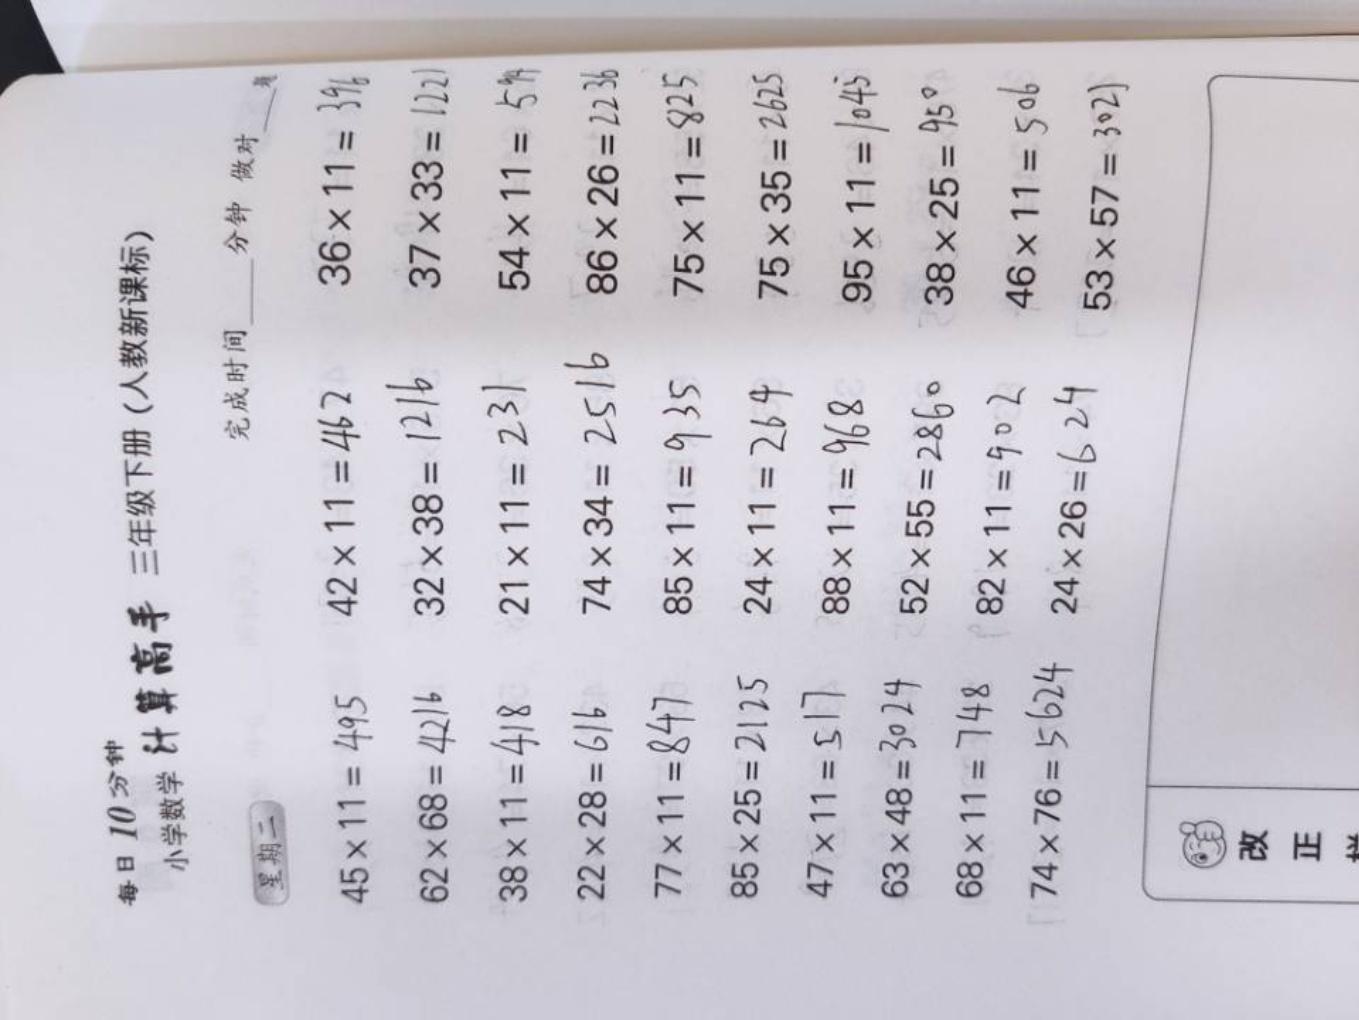equation: (1041, 356, 1133, 629), (556, 325, 636, 629), (469, 359, 550, 636), (882, 62, 967, 327), (379, 56, 463, 318), (857, 655, 933, 924), (646, 61, 723, 325), (822, 49, 893, 326), (1012, 658, 1082, 937), (1069, 65, 1136, 351), (634, 656, 708, 916), (480, 57, 550, 325), (303, 374, 377, 630), (388, 366, 458, 630), (567, 54, 633, 320), (973, 355, 1032, 650), (945, 667, 1012, 918), (483, 681, 550, 920), (790, 667, 854, 922), (307, 58, 371, 313), (725, 658, 784, 927), (740, 58, 801, 315), (316, 676, 379, 924), (991, 60, 1047, 329), (560, 691, 625, 915), (408, 678, 463, 924)
w: (871, 343, 960, 637), (639, 346, 715, 630), (797, 357, 871, 625), (734, 357, 792, 630)
